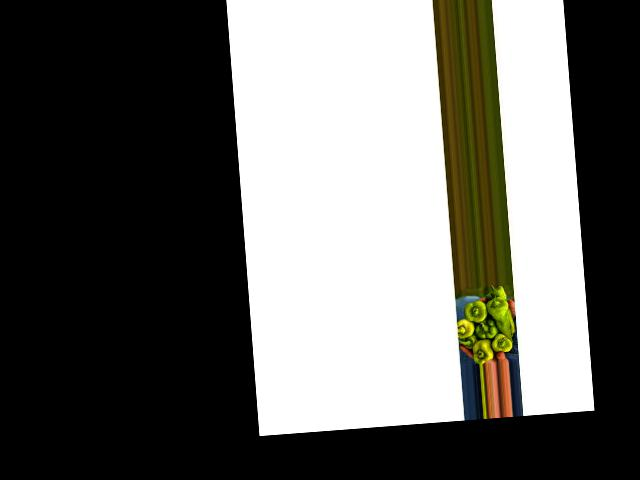bell_pepper: (469, 337, 492, 364)
